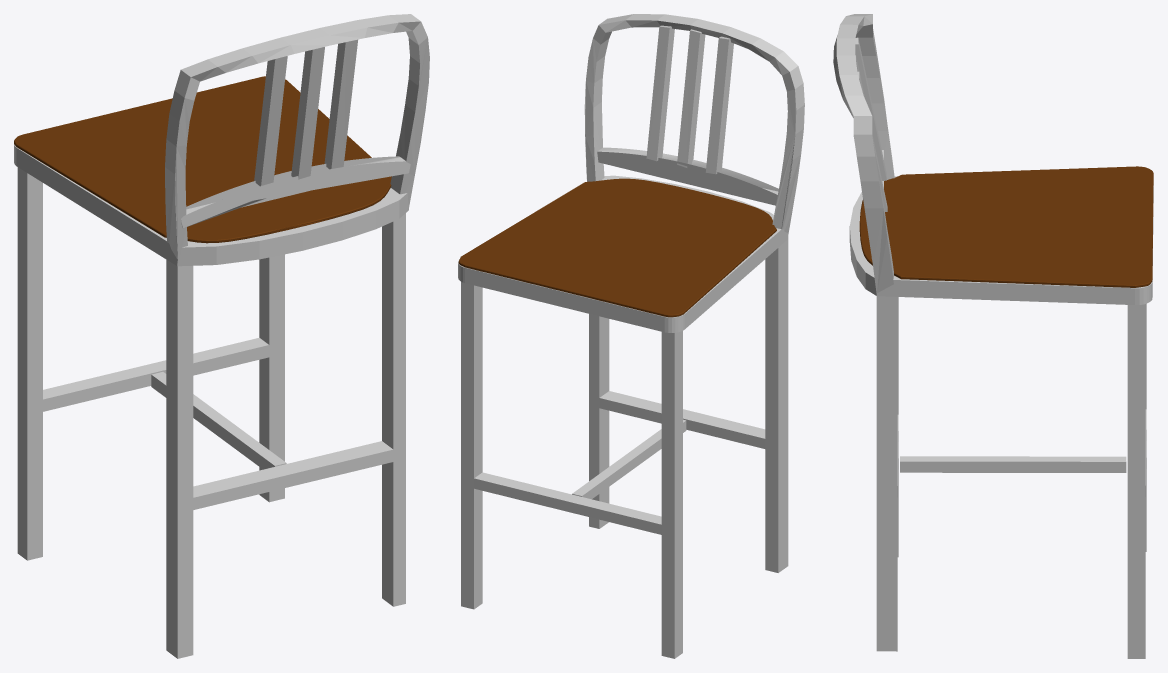
Rendered from Chair1.fbx.
3 renders of one model, left to right at view 1: azimuth 30°, elevation 25°; view 2: azimuth 150°, elevation 25°; view 3: azimuth 270°, elevation 25°, orthographic. The views are drawn at different scales.
Visible parts, largest first — view 1: Material #2097633868, 皮革; view 2: Material #2097633868, 皮革; view 3: Material #2097633868, 皮革.
Boxes of the visible parts, x1=… form: Material #2097633868: x1=14, y1=14, x2=429, y2=658; 皮革: x1=14, y1=76, x2=391, y2=243; Material #2097633868: x1=458, y1=14, x2=804, y2=658; 皮革: x1=458, y1=178, x2=776, y2=317; Material #2097633868: x1=833, y1=14, x2=1153, y2=658; 皮革: x1=859, y1=166, x2=1153, y2=287.
Size of the model in its own units: 456 by 516 by 983.
